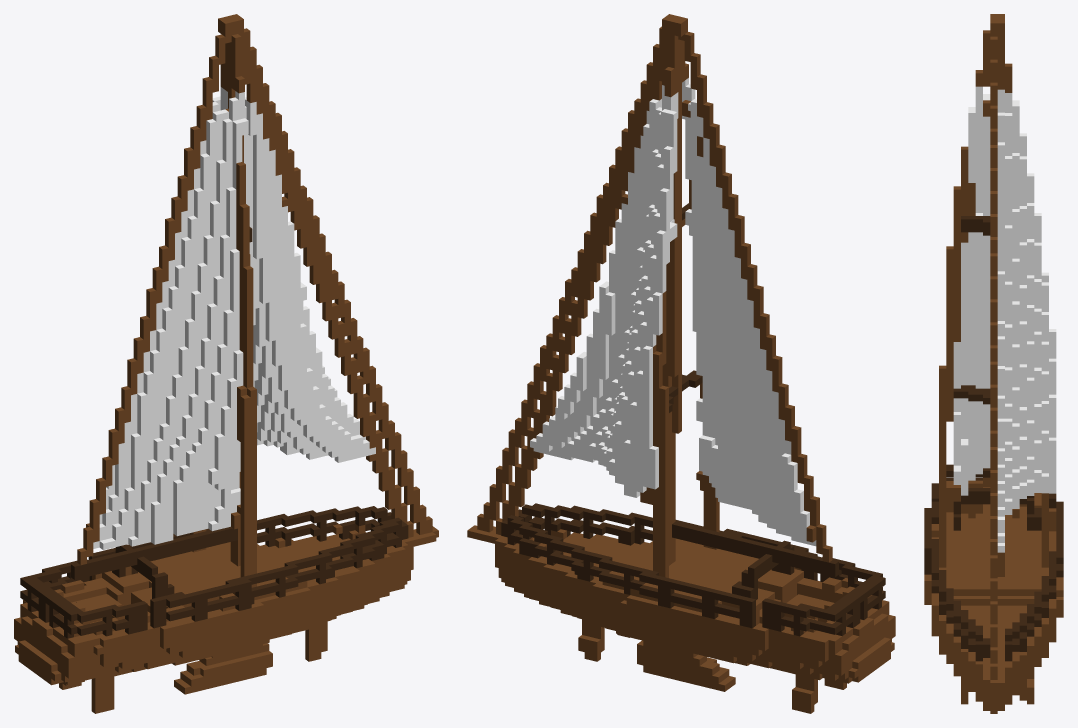
The model's file is boat.obj.
3 views of the same model, side by side, from view 1: azimuth 30°, elevation 25°; view 2: azimuth 150°, elevation 25°; view 3: azimuth 270°, elevation 25° (orthographic).
Bounding box in the file's own units: 6.4 × 10 × 1.9.
1 material, 1 textured.
